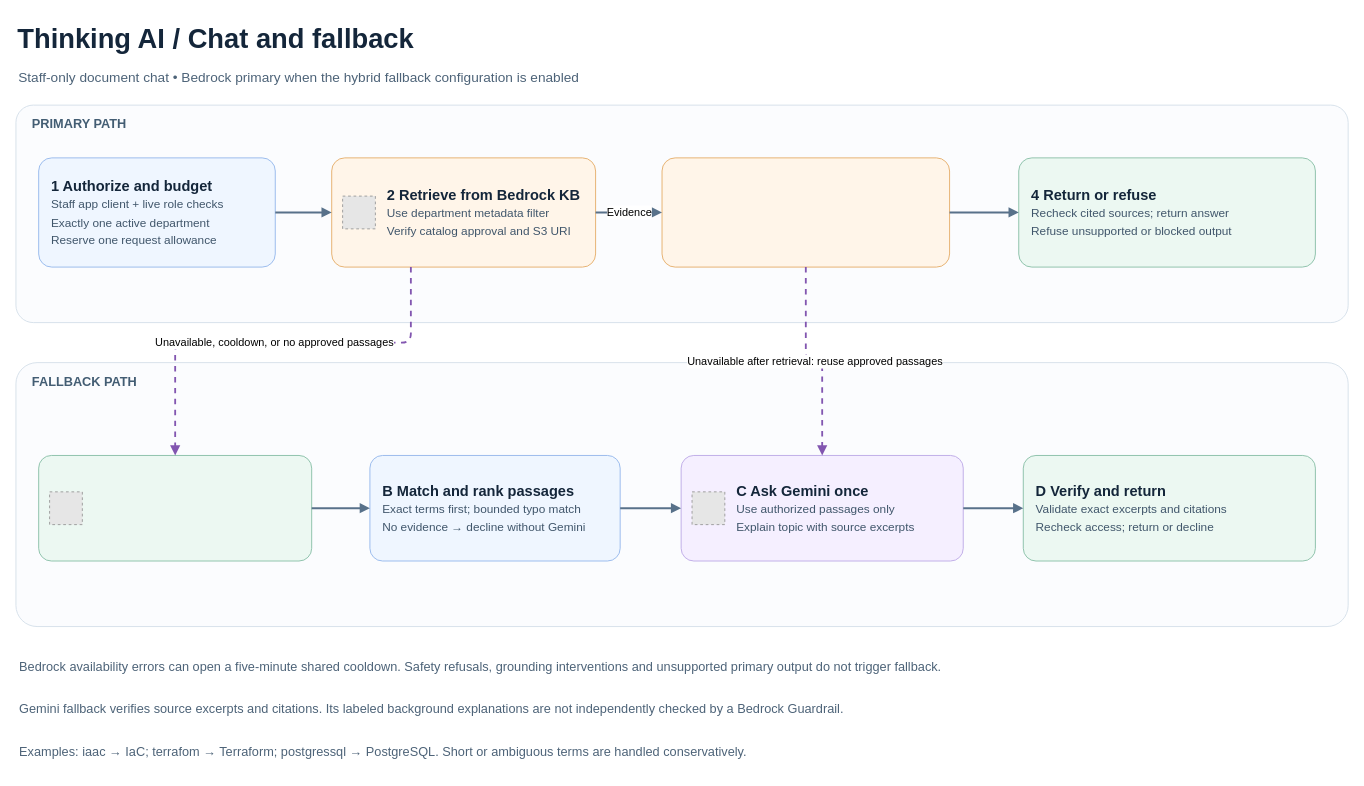
This 1364x786 diagram has some shape labels left out. Grey dashed boxes stand in for pictures. Each missing label, with the box of its shape:
3 Generate and ground Invoke Nova Micro on evidence Apply Bedrock Guardrail: (661, 157, 950, 267)
A Local text search Current question only Check department, catalog and ETag: (38, 455, 312, 561)
